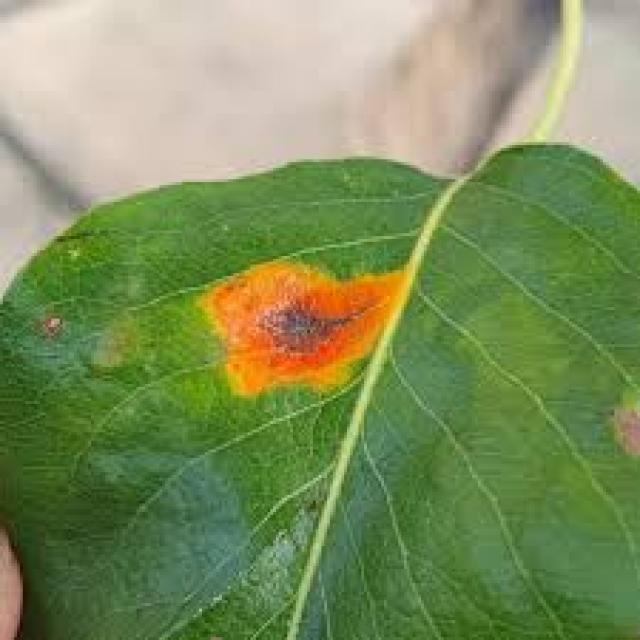leaf_rust: (0, 142, 637, 637)
